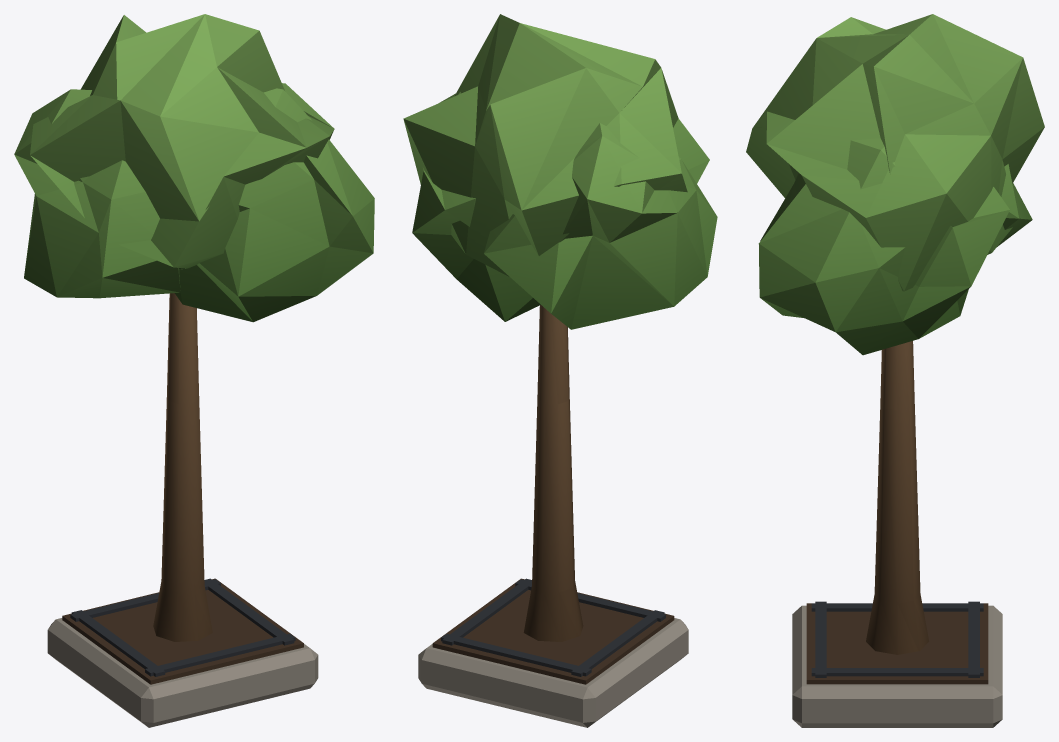
File: metropolis_street_tree_01.glb
The picture shows the model from 3 angles, left to right: view 1: azimuth 30°, elevation 25°; view 2: azimuth 150°, elevation 25°; view 3: azimuth 270°, elevation 25°; orthographic projection. The views are drawn at different scales.
Parts seen in each view (by area): view 1: metropolis_street_tree_01; view 2: metropolis_street_tree_01; view 3: metropolis_street_tree_01.
Boxes of the visible parts, x1,y1,x2,y2 form: metropolis_street_tree_01: (14, 14, 374, 727); metropolis_street_tree_01: (403, 14, 717, 727); metropolis_street_tree_01: (746, 14, 1044, 727).
Bounding box in the file's own units: 1.82 × 3.85 × 1.56.
